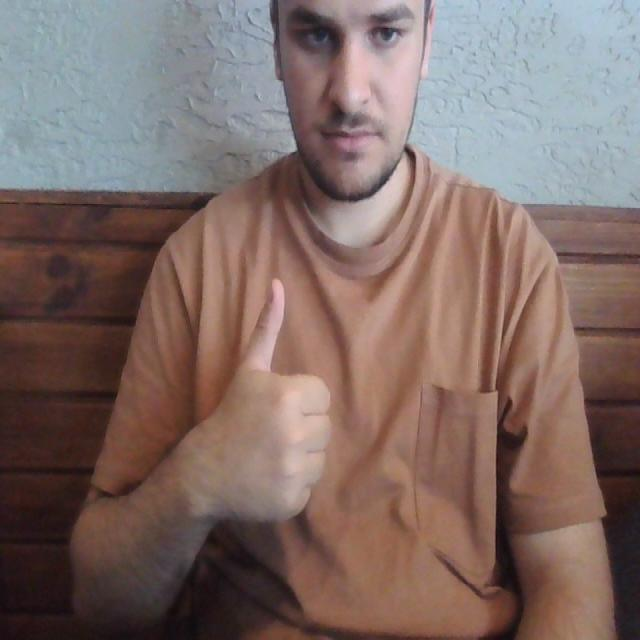Tamam: (200, 276, 335, 540)
